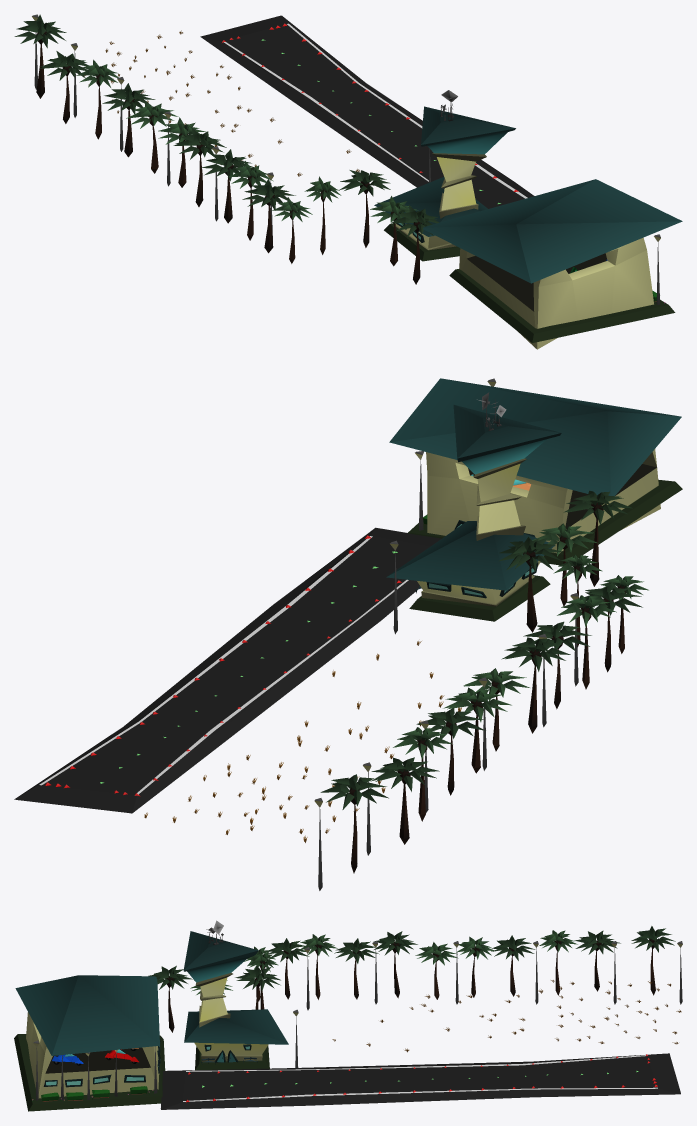
The model's file is c_airport.fbx.
3 renders of one model, top to bottom at view 1: azimuth 30°, elevation 25°; view 2: azimuth 150°, elevation 25°; view 3: azimuth 270°, elevation 25°, orthographic. The views are drawn at different scales.
Parts seen in each view (by area): view 1: c_airport; view 2: c_airport; view 3: c_airport.
Boxes of the visible parts, box(x1,y1,x2,y2) form: c_airport: box(14, 14, 682, 349); c_airport: box(14, 378, 682, 890); c_airport: box(14, 920, 682, 1111).
Size of the model in its own units: 48.9 by 25.18 by 106.
